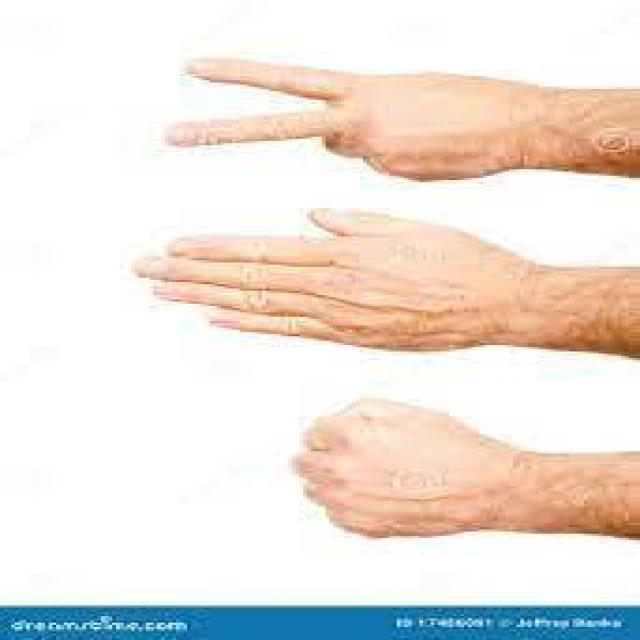paper: (103, 202, 593, 369)
rock: (239, 387, 556, 566)
scirssors: (138, 23, 560, 194)
